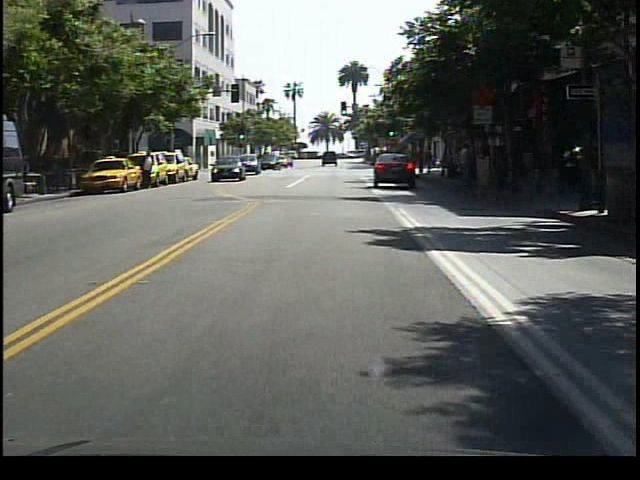person: (455, 138, 476, 197), (141, 148, 158, 194)
